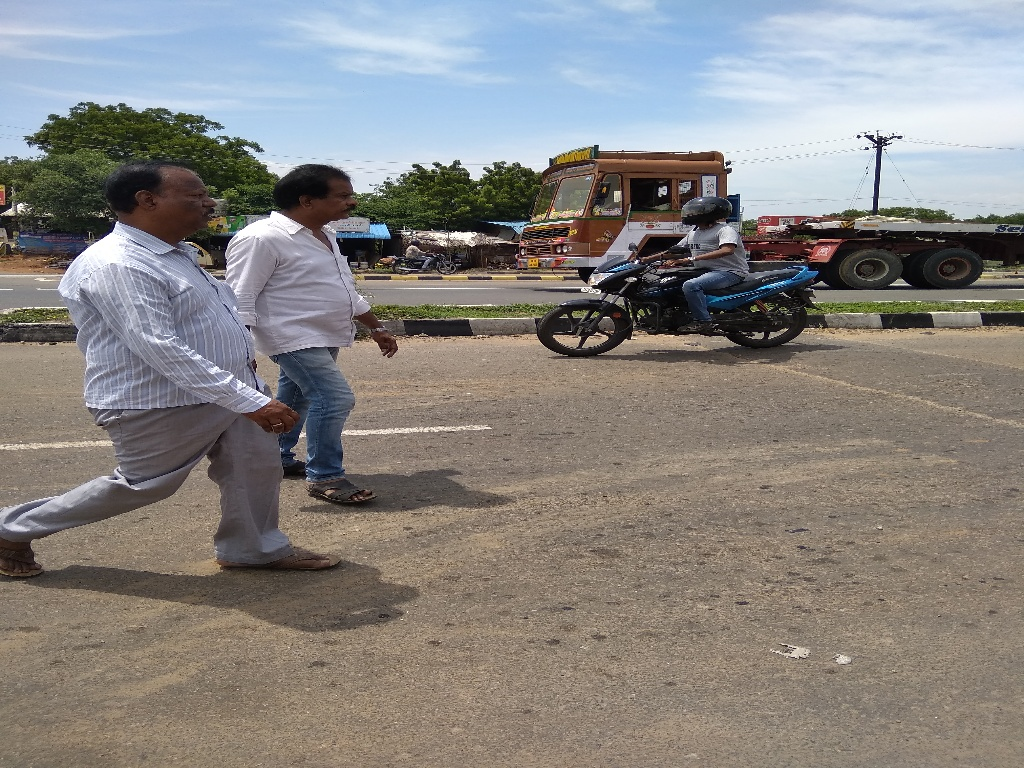biker: (527, 158, 841, 367)
helmet: (664, 176, 746, 239)
